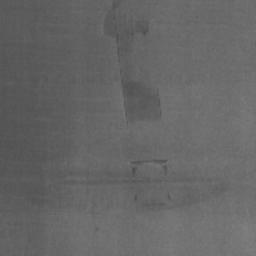Rolled pit: (104, 0, 161, 122), (130, 159, 168, 176), (134, 193, 142, 201), (167, 192, 172, 201)
